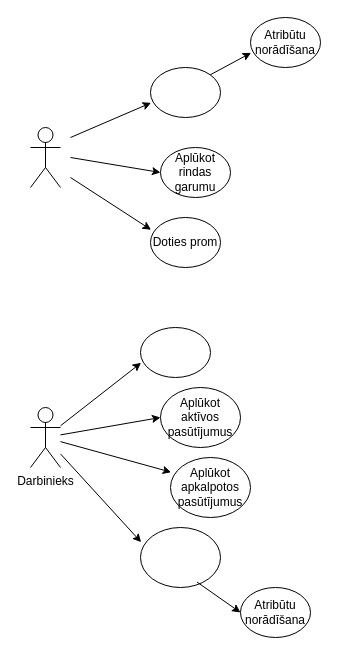
Some shapes in this 338 by 655 pixel diagram are drawn without their labels. The shapes that lost their labels are listed below. From the top down, each one's centre as x and y in pixels, then its label:
At (x=185, y=92): "Pasūtīt picu".
At (x=45, y=157): "Klients".
At (x=175, y=352): "Apkalpot".
At (x=180, y=557): "Uztaisīt sev picu".
